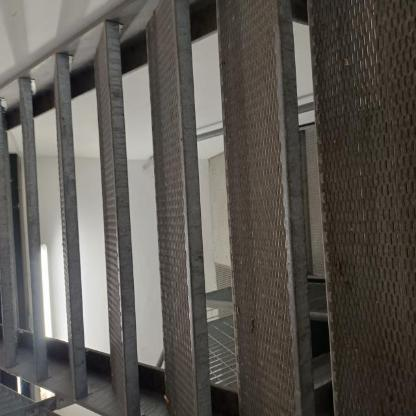stair: (0, 4, 416, 416)
